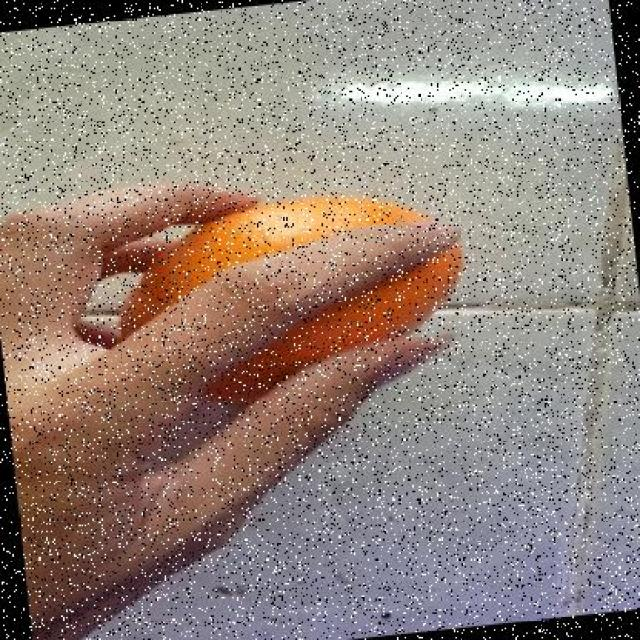Orange: (96, 191, 467, 406)
